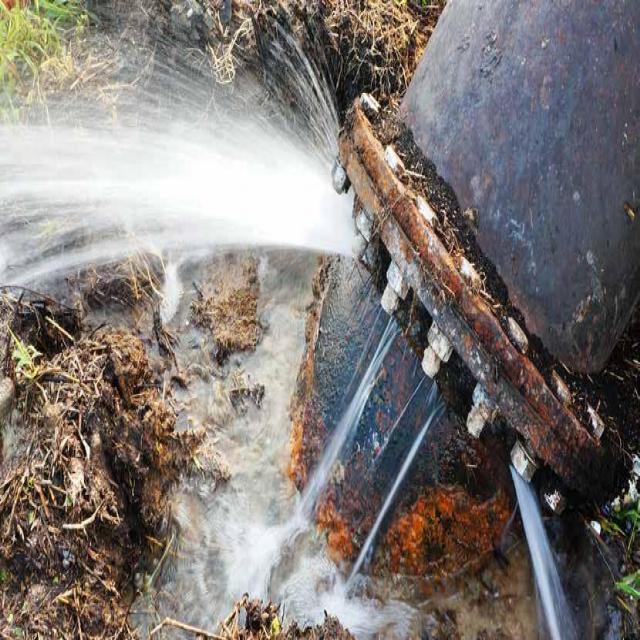leak: (0, 28, 352, 321), (296, 319, 399, 518), (348, 406, 439, 582), (511, 465, 578, 639)
